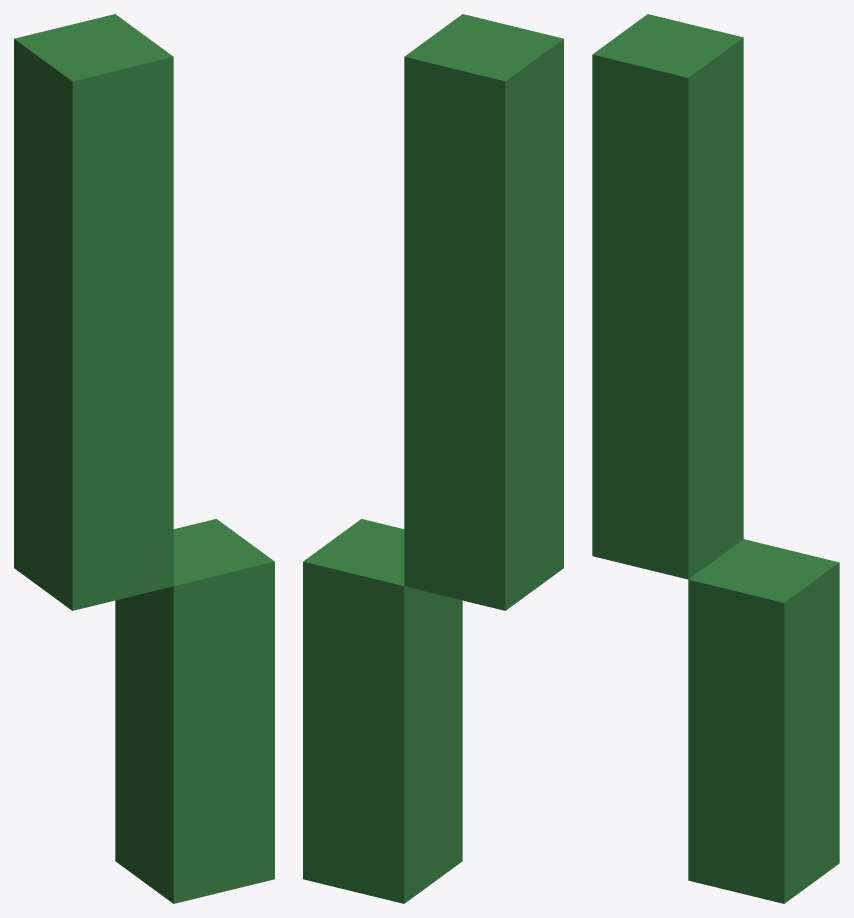
Rendered from grass_tall4.obj.
The picture shows the model from 3 angles, left to right: view 1: azimuth 30°, elevation 25°; view 2: azimuth 150°, elevation 25°; view 3: azimuth 330°, elevation 25°; orthographic projection. The views are drawn at different scales.
Bounding box in the file's own units: 2 × 8 × 1.
1 material, 1 textured.
